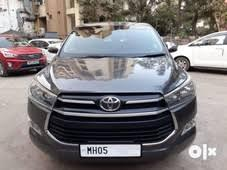Normal Automobiles: (28, 23, 196, 159), (171, 31, 226, 69), (0, 37, 46, 75), (29, 38, 62, 62)
